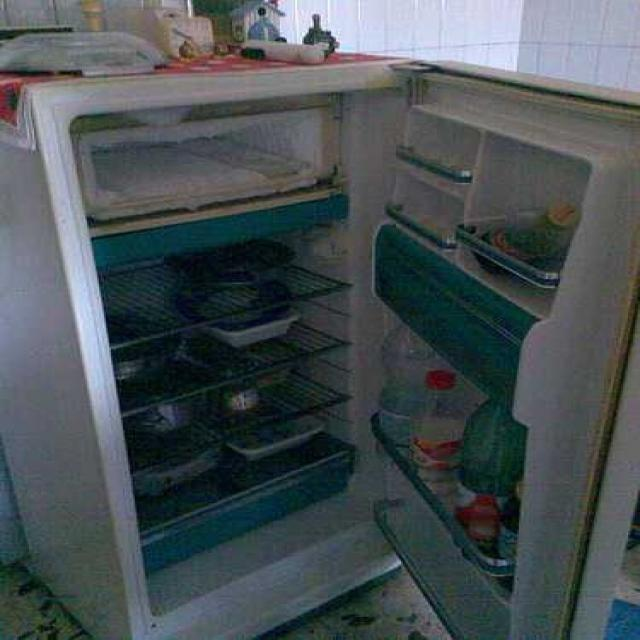refrigerator: (27, 84, 611, 640)
